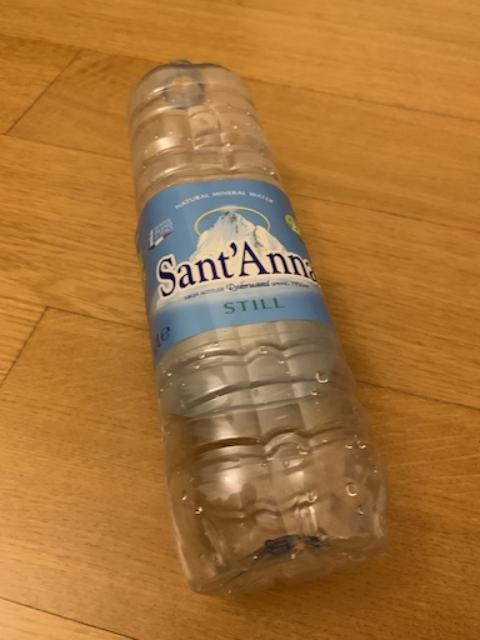plastic: (128, 60, 385, 590)
